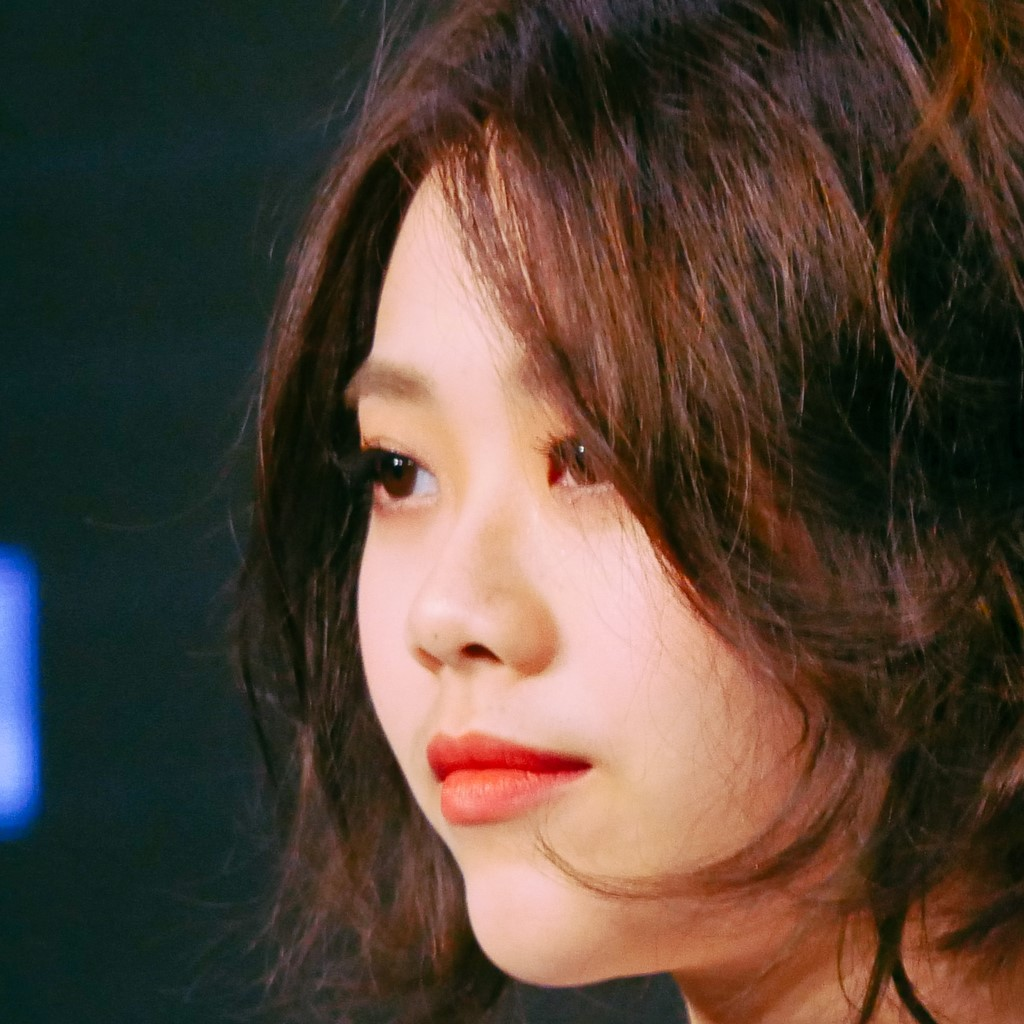sin_mascara: (321, 141, 846, 996)
